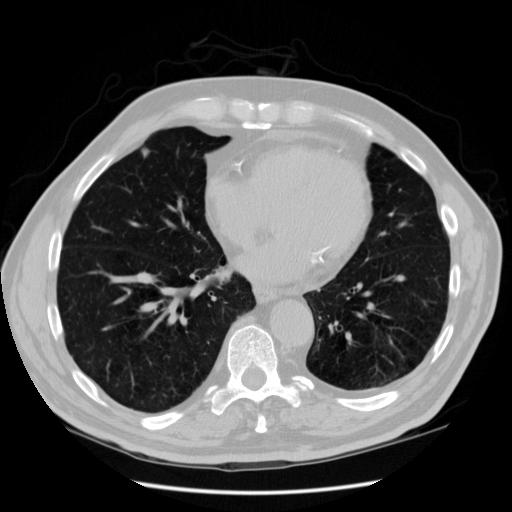nodule: (139, 146, 152, 159)
